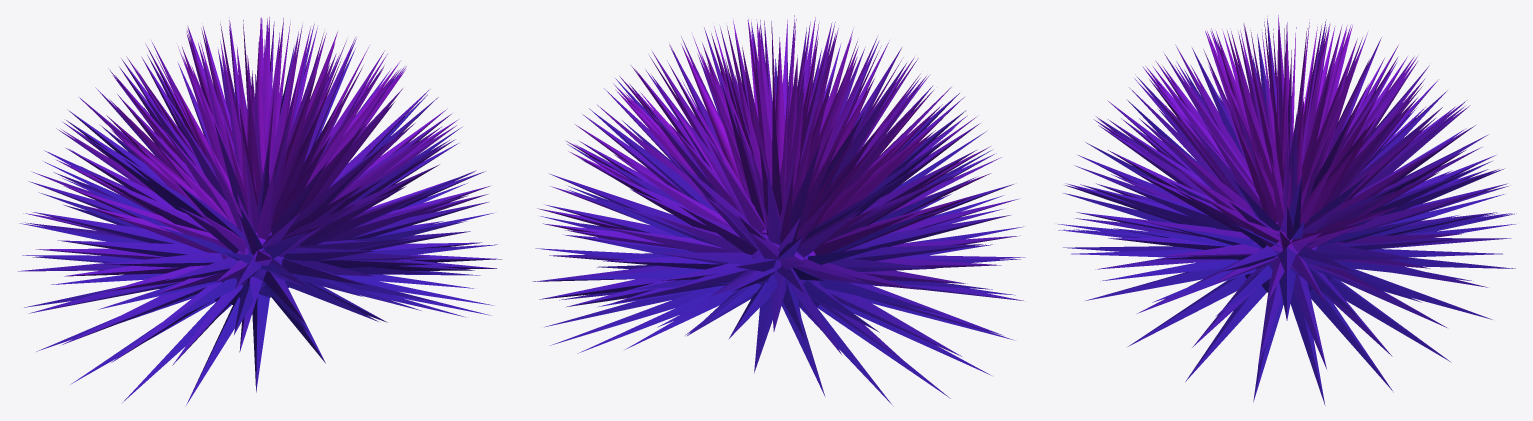
The model's file is zegel.FBX.
3 views of the same model, side by side, from view 1: azimuth 30°, elevation 25°; view 2: azimuth 150°, elevation 25°; view 3: azimuth 270°, elevation 25° (orthographic). The views are drawn at different scales.
Parts seen in each view (by area): view 1: Sphere003, Sphere001, Sphere002; view 2: Sphere003, Sphere001, Sphere002; view 3: Sphere002, Sphere001, Sphere003.
Part boxes in pixels (x1=…): Sphere003: x1=18, y1=17, x2=476, y2=406; Sphere001: x1=20, y1=18, x2=497, y2=334; Sphere002: x1=44, y1=17, x2=501, y2=317; Sphere003: x1=567, y1=15, x2=1025, y2=406; Sphere001: x1=535, y1=19, x2=1023, y2=340; Sphere002: x1=532, y1=17, x2=993, y2=353; Sphere002: x1=1063, y1=16, x2=1516, y2=405; Sphere001: x1=1058, y1=19, x2=1515, y2=320; Sphere003: x1=1058, y1=15, x2=1514, y2=248.
Size of the model in its own units: 160 by 106 by 160.
1 material, 1 textured.
